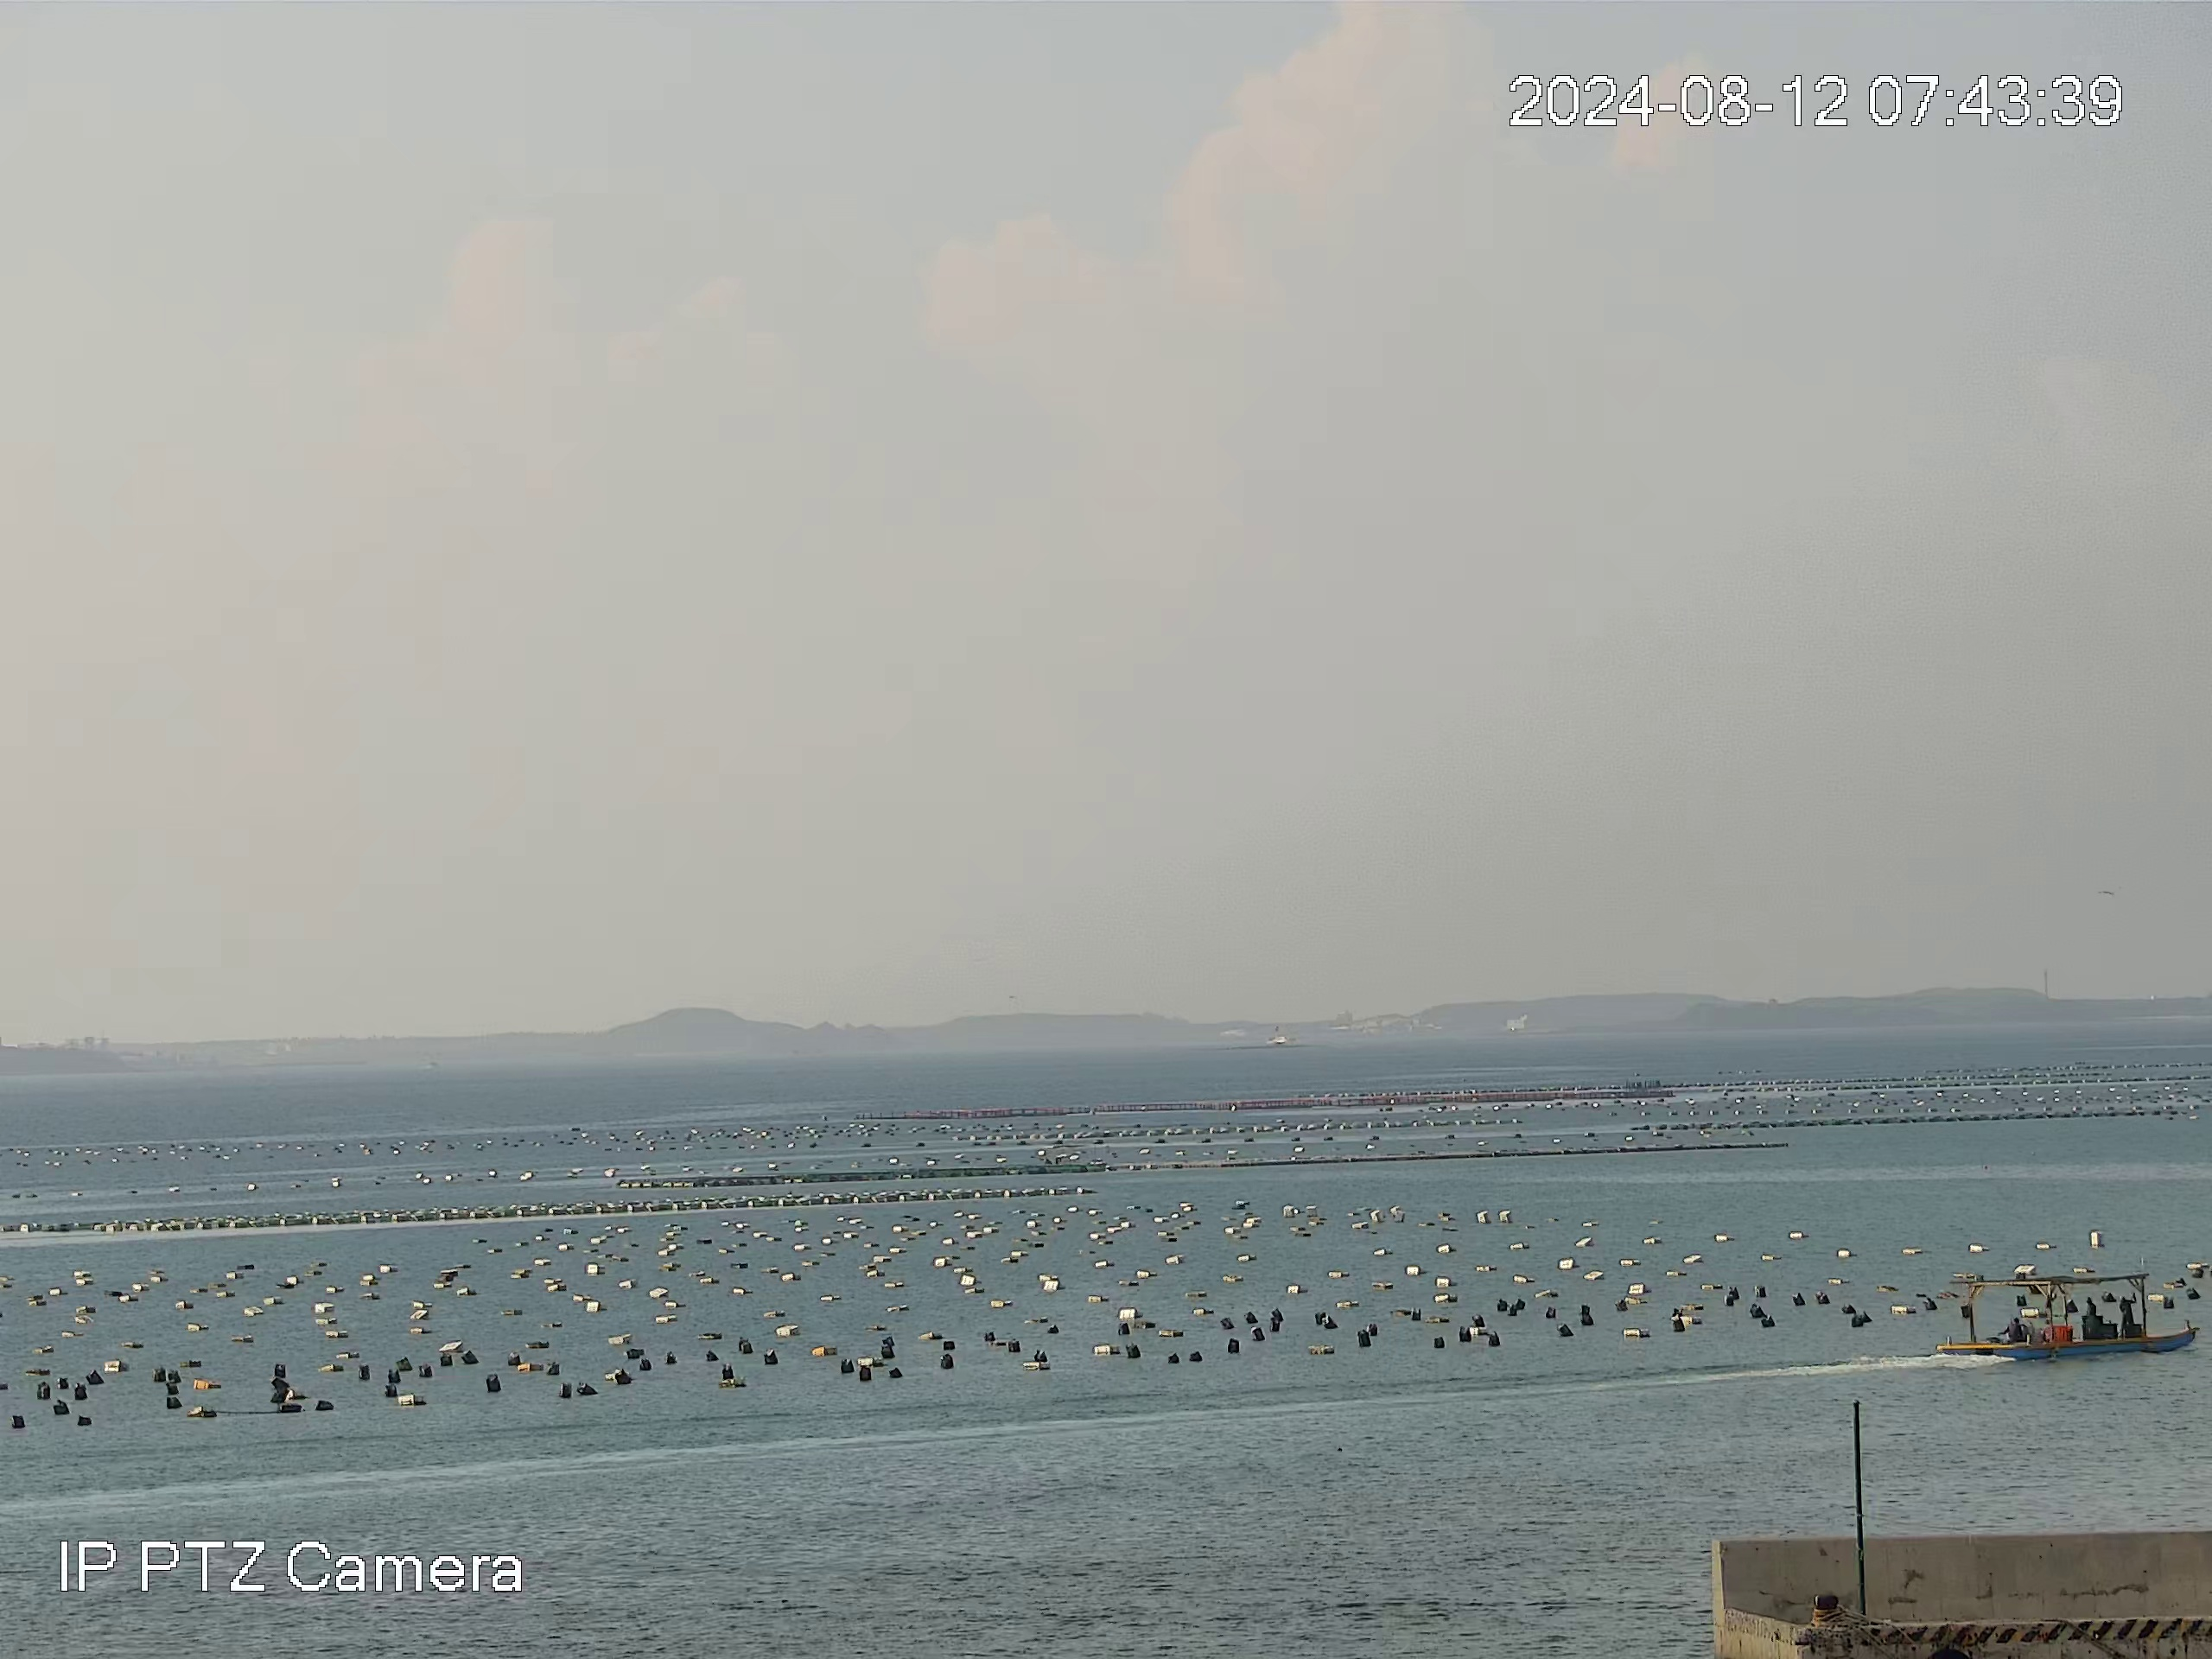boat: (1925, 1265, 2202, 1366)
